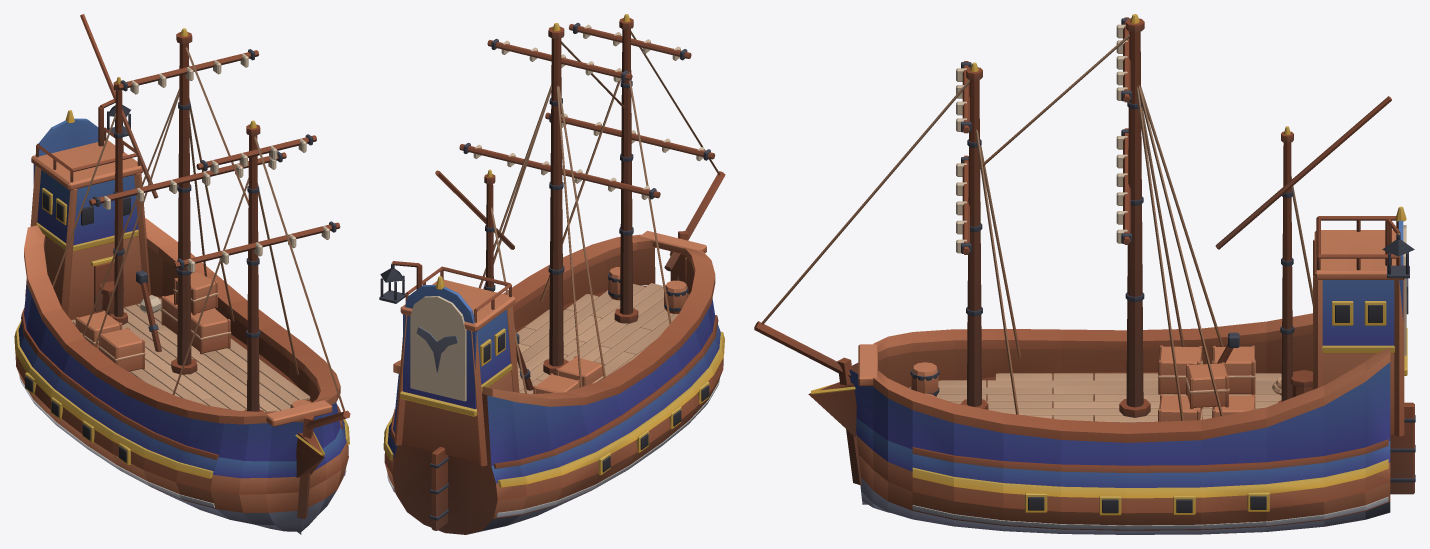
The model's file is freighter.glb.
3 views of the same model, side by side, from view 1: azimuth 30°, elevation 25°; view 2: azimuth 150°, elevation 25°; view 3: azimuth 270°, elevation 25° (orthographic). The views are drawn at different scales.
Parts seen in each view (by area): view 1: freighter, boom; view 2: freighter; view 3: freighter.
Boxes of the visible parts, x1,y1,x2,y2 form: freighter: (14,14,350,534); boom: (136,270,161,351); freighter: (379,14,725,534); freighter: (754,14,1415,534).
Size of the model in its own units: 3.56 by 6.79 by 8.04.
